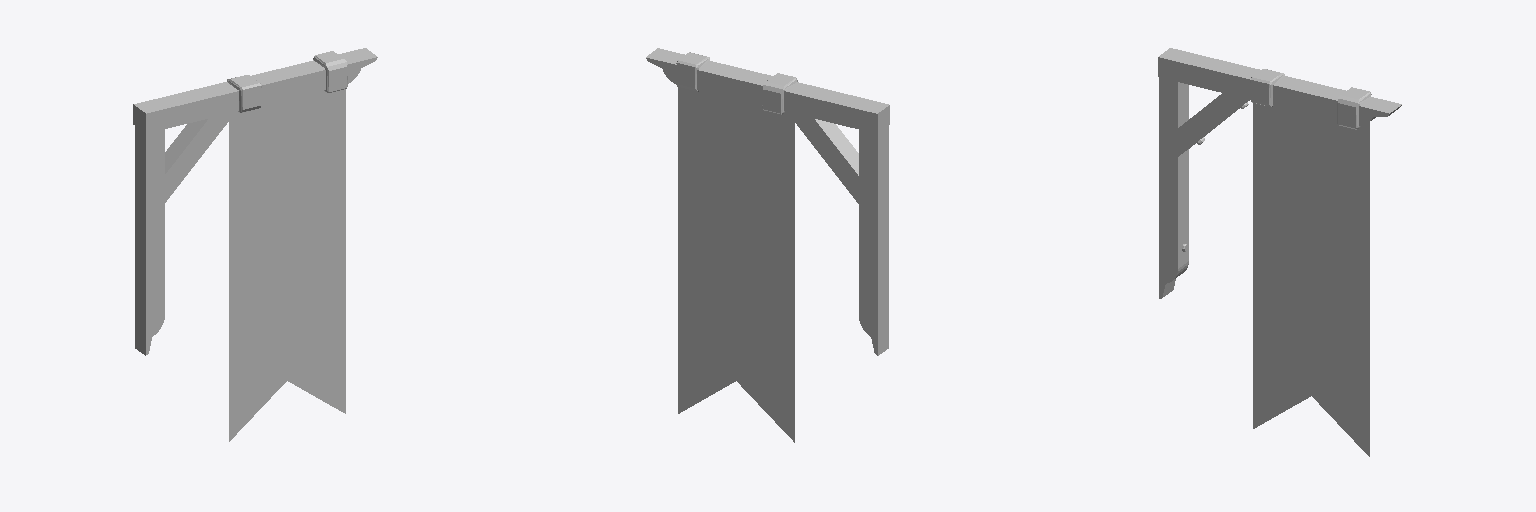
The model's file is Banner_1.obj.
3 renders of one model, left to right at view 1: azimuth 30°, elevation 25°; view 2: azimuth 150°, elevation 25°; view 3: azimuth 330°, elevation 25°, orthographic.
Parts seen in each view (by area): view 1: Banner_1_Cube.187; view 2: Banner_1_Cube.187; view 3: Banner_1_Cube.187.
Part boxes in pixels (x1,y1,x2,y2): Banner_1_Cube.187: (133,48,377,441); Banner_1_Cube.187: (646,48,889,442); Banner_1_Cube.187: (1158,48,1401,456).
Size of the model in its own units: 1.61 by 2.39 by 0.1906.